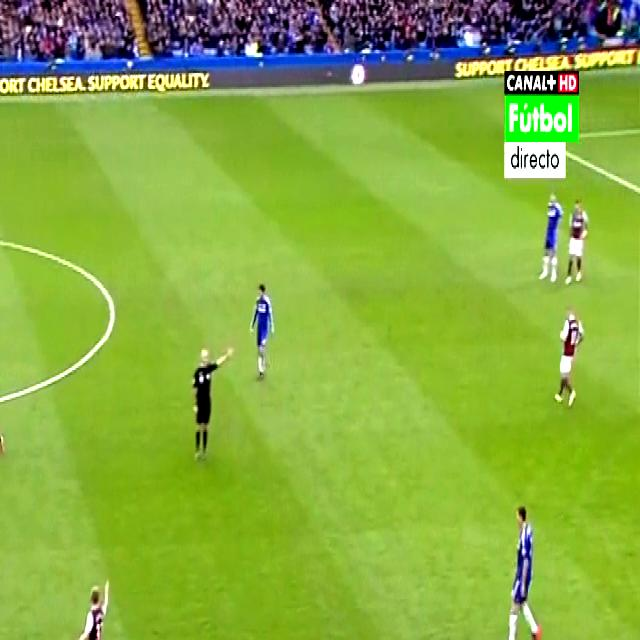referee: (185, 336, 222, 468)
soccer-player: (499, 490, 544, 640), (60, 562, 116, 640), (243, 274, 277, 392), (548, 300, 582, 414), (536, 186, 564, 291), (566, 190, 593, 292), (0, 336, 6, 460)
